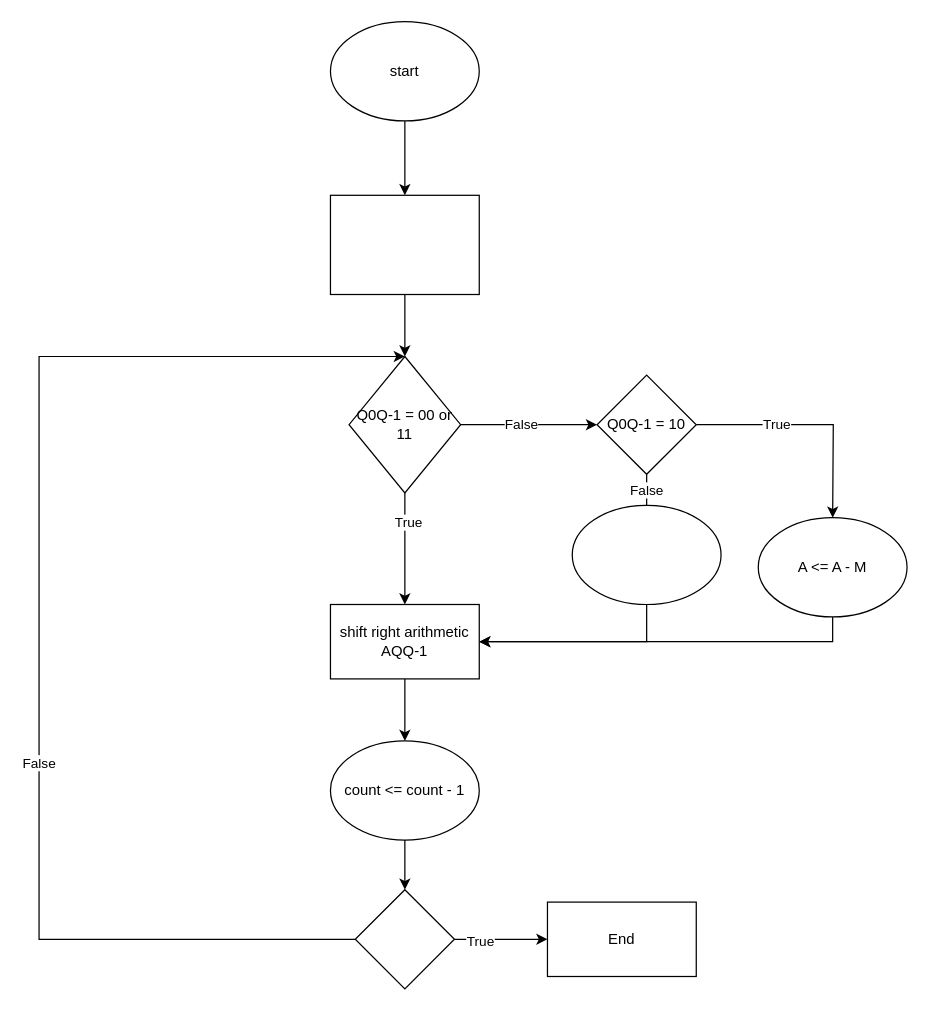
The diagram is 929 pixels wide and 1011 high, and some of its shapes have lost their labels. The shapes that lost their labels are listed below. From the top down, each one's centre as x and y in pixels, then its label:
At (404,244): "A = 0 Q = multiplier Q-1 = 0 M = multiplicand count = n".
At (646,554): "A <= A + M".
At (404,938): "count = 0".
